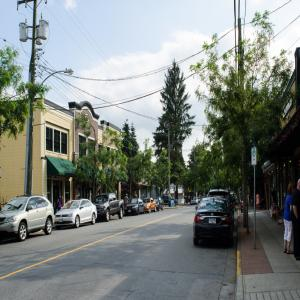Vehicle-registration-plate: (210, 218, 217, 226)
